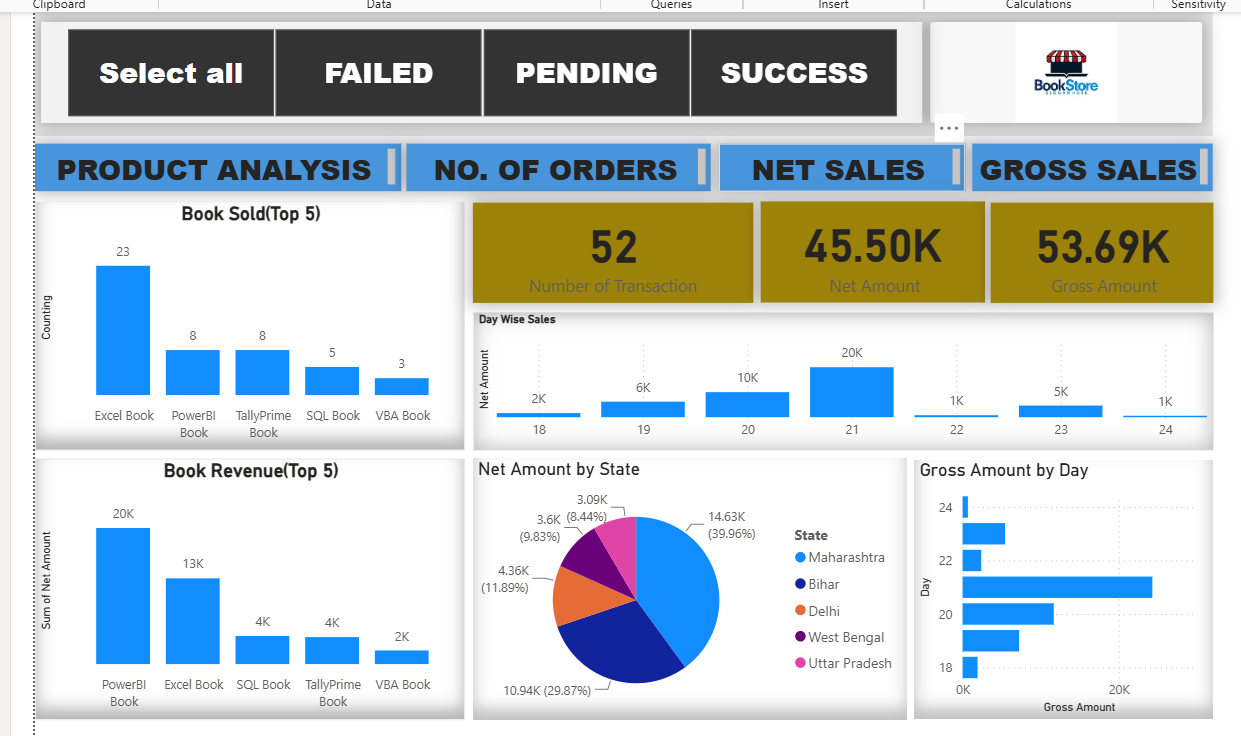

The page's visual inventory and layout, read from the dashboard file:
{"tool":"powerbi","page":{"name":"Page 1","canvas":[1280,720],"ordinal":0},"visuals":[{"type":"shape","box":[0,0,1127.1,118.6],"z":0},{"type":"image","box":[857.1,10,260,97.1],"z":1000},{"type":"slicer","fields":{"Values":["7 Days Books Sales Report File.Payment Status"]},"box":[5.7,10,842.9,97.1],"z":2000},{"type":"textbox","box":[0,125.7,350,45.7],"z":3000},{"type":"textbox","box":[355.7,125.7,291.4,45.7],"z":4000},{"type":"textbox","box":[654.3,125.7,235.7,45.7],"z":5000},{"type":"textbox","box":[897.1,125.7,230,45.7],"z":6000},{"type":"clusteredColumnChart","title":"Book Sold(Top 5)","fields":{"Category":["7 Days Books Sales Report File.Books"],"Y":["CountNonNull(7 Days Books Sales Report File.Books)"]},"box":[0,181.4,411.4,238.6],"z":7000},{"type":"clusteredColumnChart","title":"Book Revenue(Top 5)","fields":{"Category":["7 Days Books Sales Report File.Books"],"Y":["Sum(7 Days Books Sales Report File.Net Amount)"]},"box":[0,427.1,411.4,250],"z":8000},{"type":"clusteredColumnChart","title":"Day Wise Sales","fields":{"Y":["Sum(7 Days Books Sales Report File.Net Amount)"],"Category":["7 Days Books Sales Report File.Order Date.Variation.Date Hierarchy.Day"]},"box":[418.6,287.1,708.6,132.9],"z":9000},{"type":"card","fields":{"Values":["CountNonNull(7 Days Books Sales Report File.OrderId)"]},"box":[418.6,182.9,268.6,95.7],"z":10000},{"type":"card","fields":{"Values":["Sum(7 Days Books Sales Report File.Net Amount)"]},"box":[694.3,181.4,214.3,97.1],"z":11000},{"type":"card","fields":{"Values":["Sum(7 Days Books Sales Report File.Gross Amount)"]},"box":[914.3,182.9,212.9,95.7],"z":12000},{"type":"pieChart","fields":{"Category":["7 Days Books Sales Report File.State"],"Y":["Sum(7 Days Books Sales Report File.Net Amount)"]},"box":[418.6,427.1,415.7,250],"z":13000},{"type":"clusteredBarChart","fields":{"Category":["7 Days Books Sales Report File.Order Date.Variation.Date Hierarchy.Day"],"Y":["Sum(7 Days Books Sales Report File.Gross Amount)"]},"box":[841.7,428.3,285,248.3],"z":13001}]}

Visuals, with their boxes on the page's 1280x720 design canvas (x1, y1, x2, y2). These are canvas units, not pixel positions in the 1241x736 screenshot, which may show the page scaled, cropped or inside an application window:
shape: Rect(0, 0, 1127, 119)
image: Rect(857, 10, 1117, 107)
slicer - 7 Days Books Sales Report File.Payment Status: Rect(6, 10, 849, 107)
textbox: Rect(0, 126, 350, 171)
textbox: Rect(356, 126, 647, 171)
textbox: Rect(654, 126, 890, 171)
textbox: Rect(897, 126, 1127, 171)
"Book Sold(Top 5)" clusteredColumnChart: Rect(0, 181, 411, 420)
"Book Revenue(Top 5)" clusteredColumnChart: Rect(0, 427, 411, 677)
"Day Wise Sales" clusteredColumnChart: Rect(419, 287, 1127, 420)
card - CountNonNull(7 Days Books Sales Report File.OrderId): Rect(419, 183, 687, 279)
card - Sum(7 Days Books Sales Report File.Net Amount): Rect(694, 181, 909, 278)
card - Sum(7 Days Books Sales Report File.Gross Amount): Rect(914, 183, 1127, 279)
pieChart - 7 Days Books Sales Report File.State x Sum(7 Days Books Sales Report File.Net Amount): Rect(419, 427, 834, 677)
clusteredBarChart - 7 Days Books Sales Report File.Order Date.Variation.Date Hierarchy.Day x Sum(7 Days Books Sales Report File.Gross Amount): Rect(842, 428, 1127, 677)
